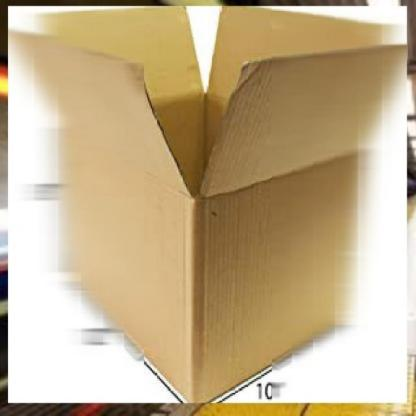box: (2, 0, 414, 410)
